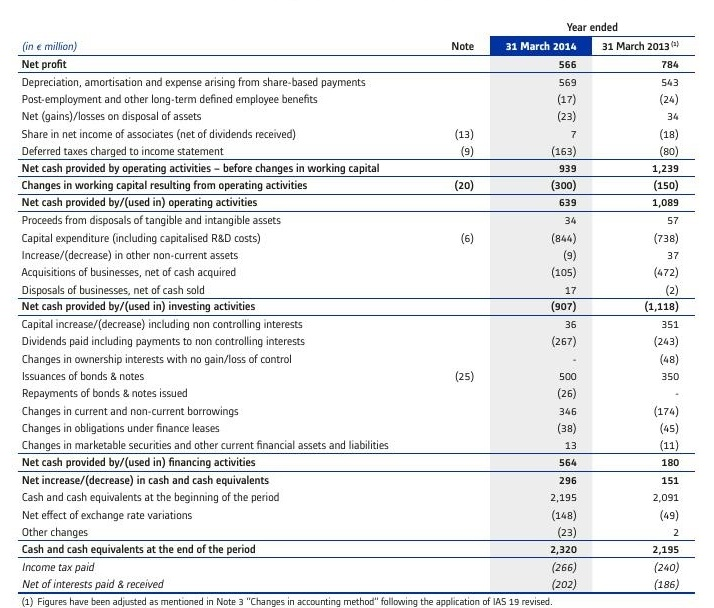table: (0, 0, 714, 608)
